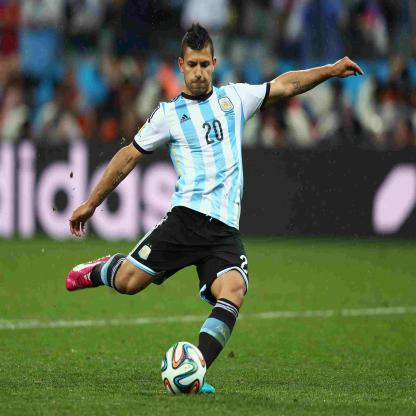football player standing: (79, 14, 356, 336)
